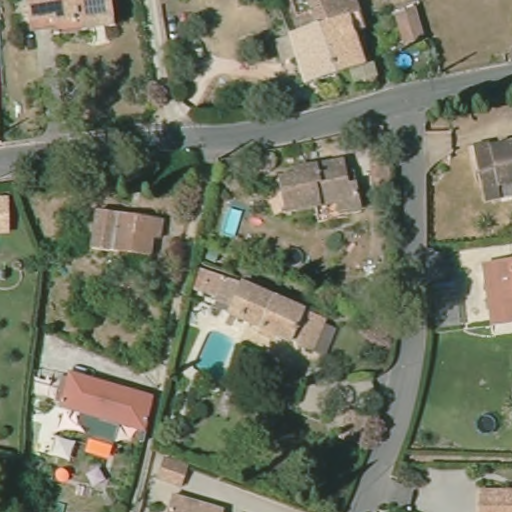pool: (195, 325, 235, 379), (219, 199, 244, 241), (391, 51, 416, 70)
